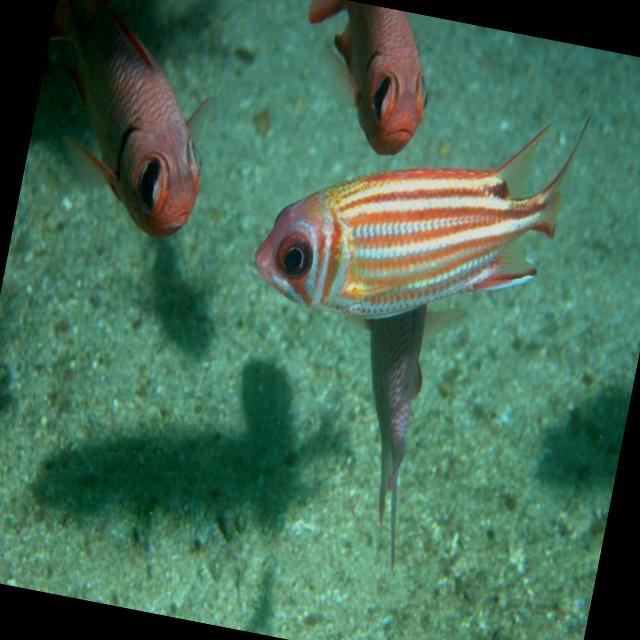Asker Baligi: (227, 93, 586, 355), (16, 0, 239, 245)
